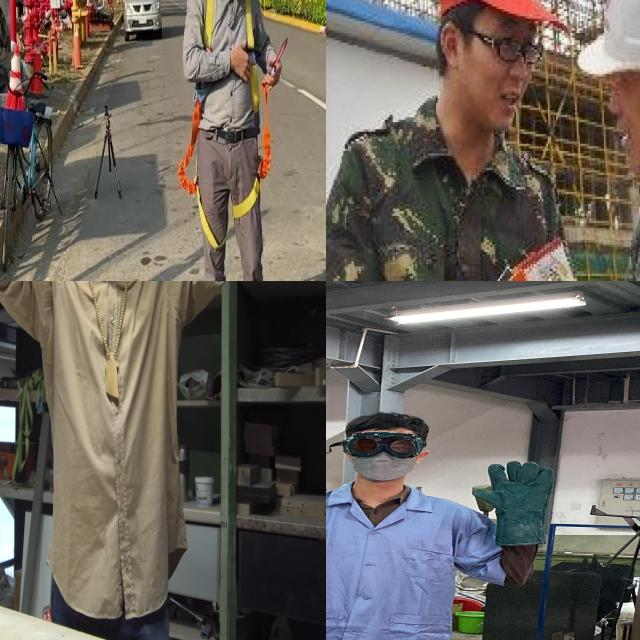Harness: (233, 0, 272, 222), (178, 92, 226, 250)
No_Ear-Protection: (436, 19, 463, 72)
face_mask: (337, 431, 427, 484)
face_nomask: (479, 27, 548, 118), (594, 77, 640, 161)
glasses: (332, 426, 432, 461), (487, 32, 547, 70)
hand_glove: (468, 459, 564, 519)
head_helmet: (565, 0, 640, 80)
head_nohelmet: (436, 0, 571, 26), (343, 408, 430, 437)
person: (0, 281, 245, 640), (326, 0, 580, 281), (326, 410, 572, 640), (535, 0, 640, 281)
